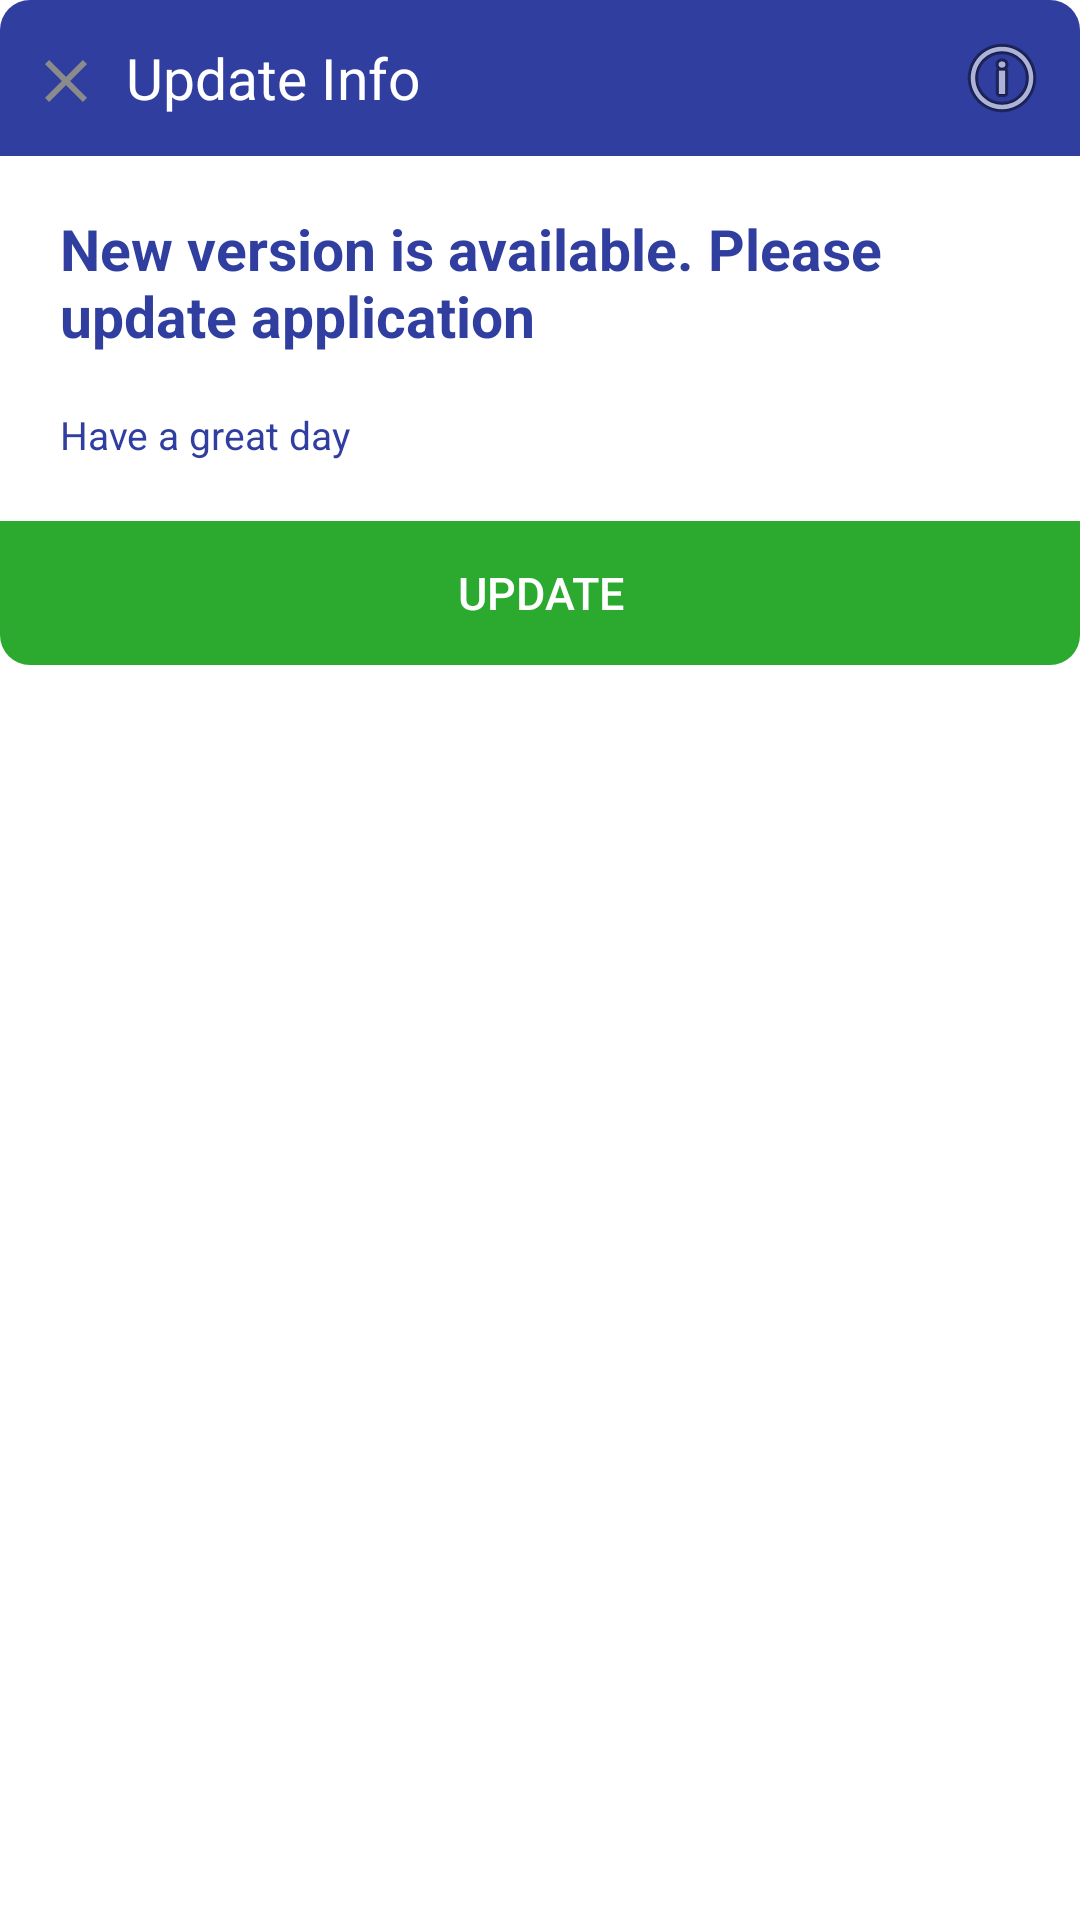

Screen size 1080×1920. Icon name, then its box in pixels as (x1, y1, x2, y2):
close: (45, 60, 87, 102)
info details: (968, 44, 1036, 112)
